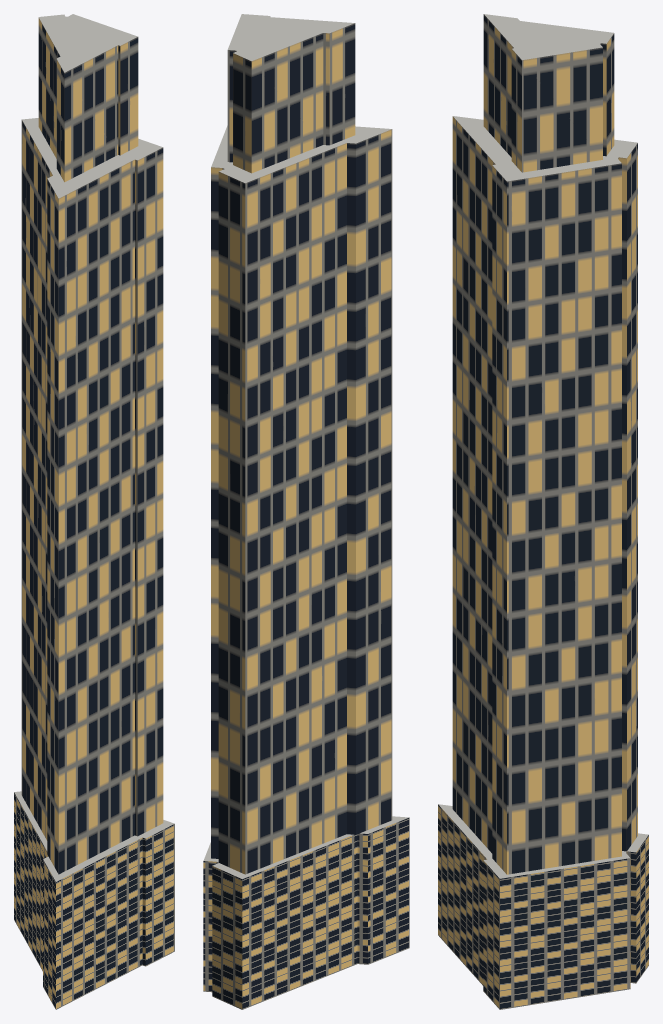
Rendered from cromwell-tower.glb.
3 renders of one model, left to right at view 1: azimuth 30°, elevation 25°; view 2: azimuth 150°, elevation 25°; view 3: azimuth 270°, elevation 25°, orthographic. The views are drawn at different scales.
Parts seen in each view (by area): view 1: cromwell-tower; view 2: cromwell-tower; view 3: cromwell-tower.
Part boxes in pixels (x1=…): cromwell-tower: x1=14, y1=14, x2=174, y2=1009; cromwell-tower: x1=203, y1=14, x2=409, y2=1009; cromwell-tower: x1=438, y1=14, x2=648, y2=1009.
Size of the model in its own units: 0.2831 by 1.66 by 0.3379.
2 materials, 1 textured.
